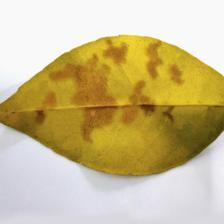black spot: (52, 56, 186, 132)
